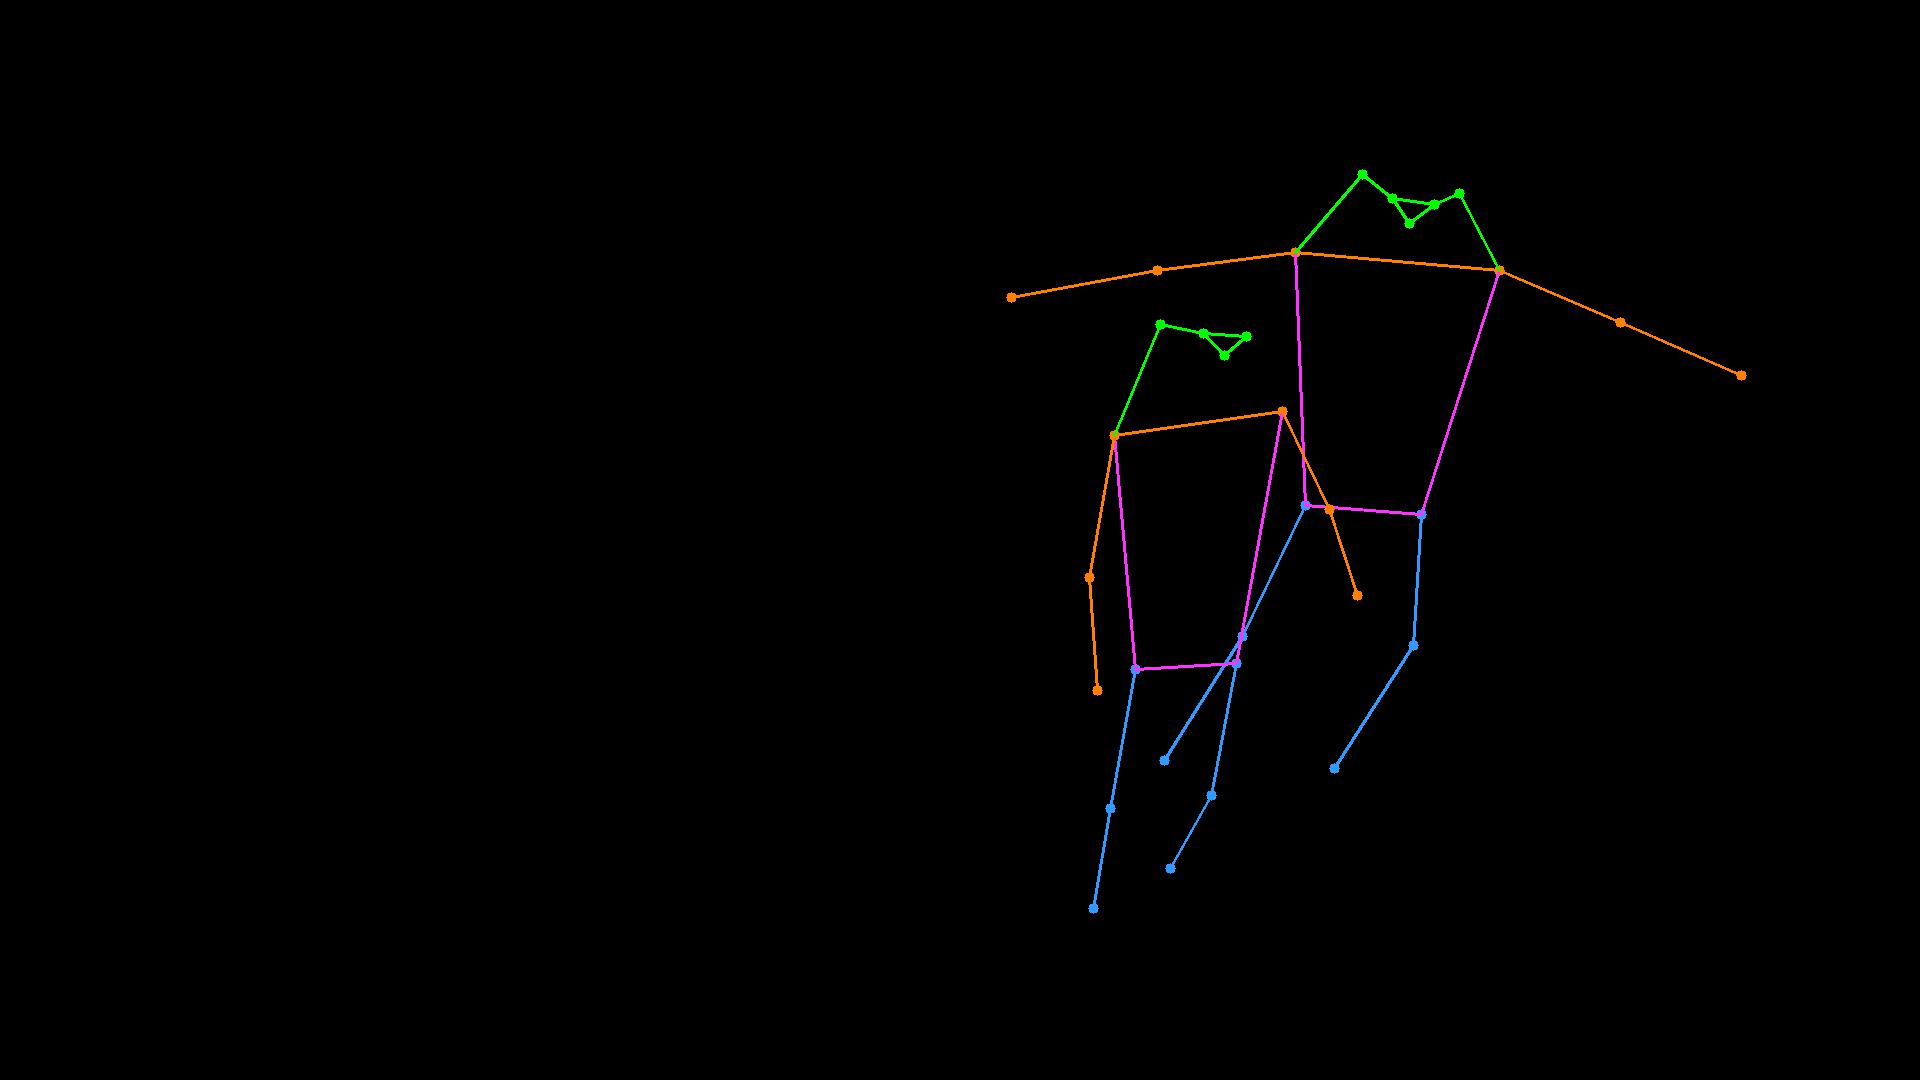normal: (963, 113, 1807, 951)
